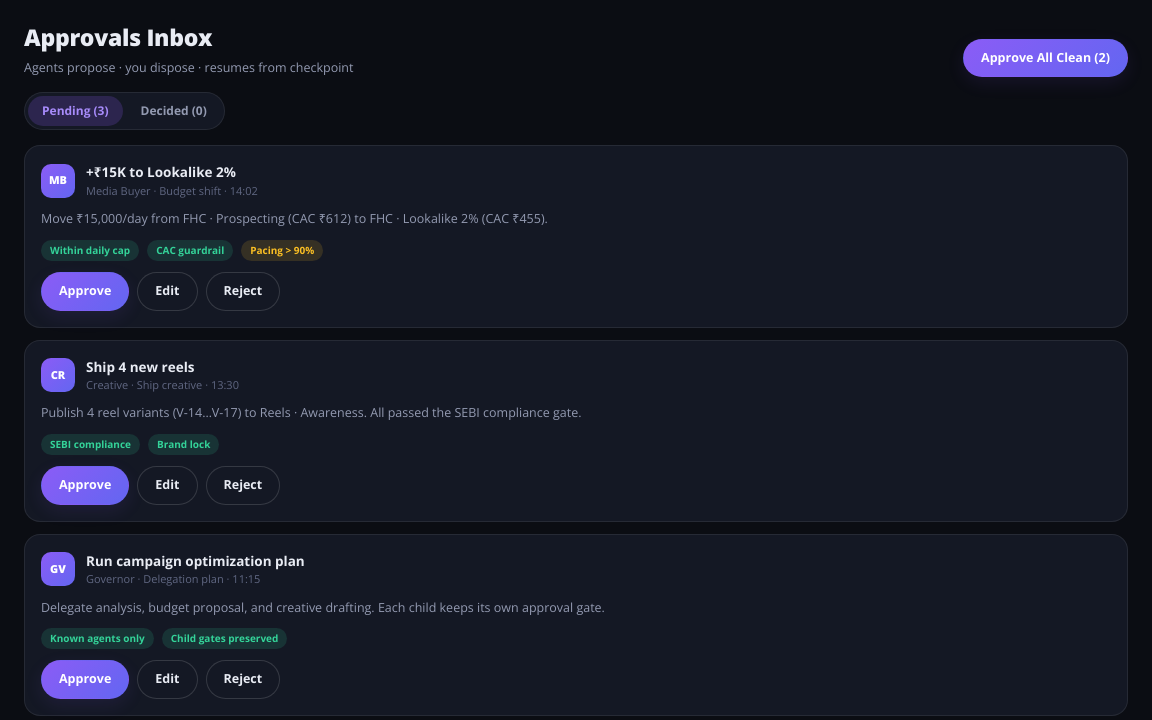
Test case: ApprovalsView › edits a proposal without deciding it
The image size is (1152, 720).
Click the button "Edit" below "Within daily cap" at (168, 291), box x1=137 y1=272 x2=198 y2=311
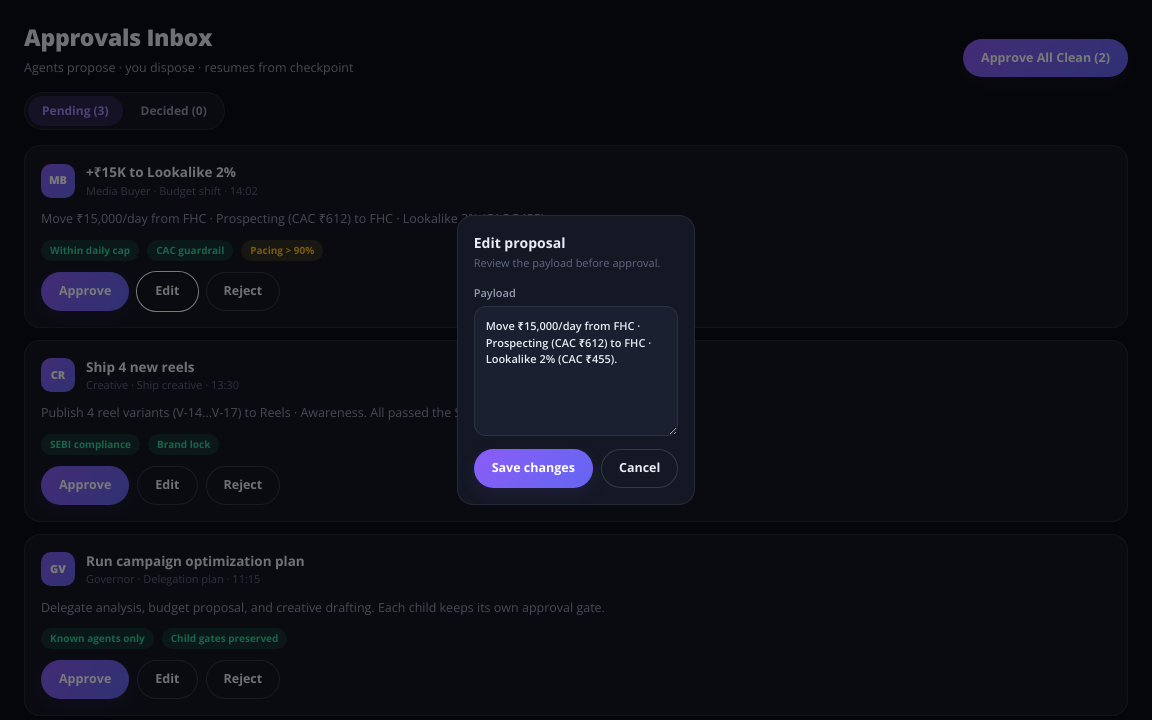
Replace the text in the text box labelled "Payload" with "Updated proposal" at (576, 371), box x1=474 y1=306 x2=678 y2=436
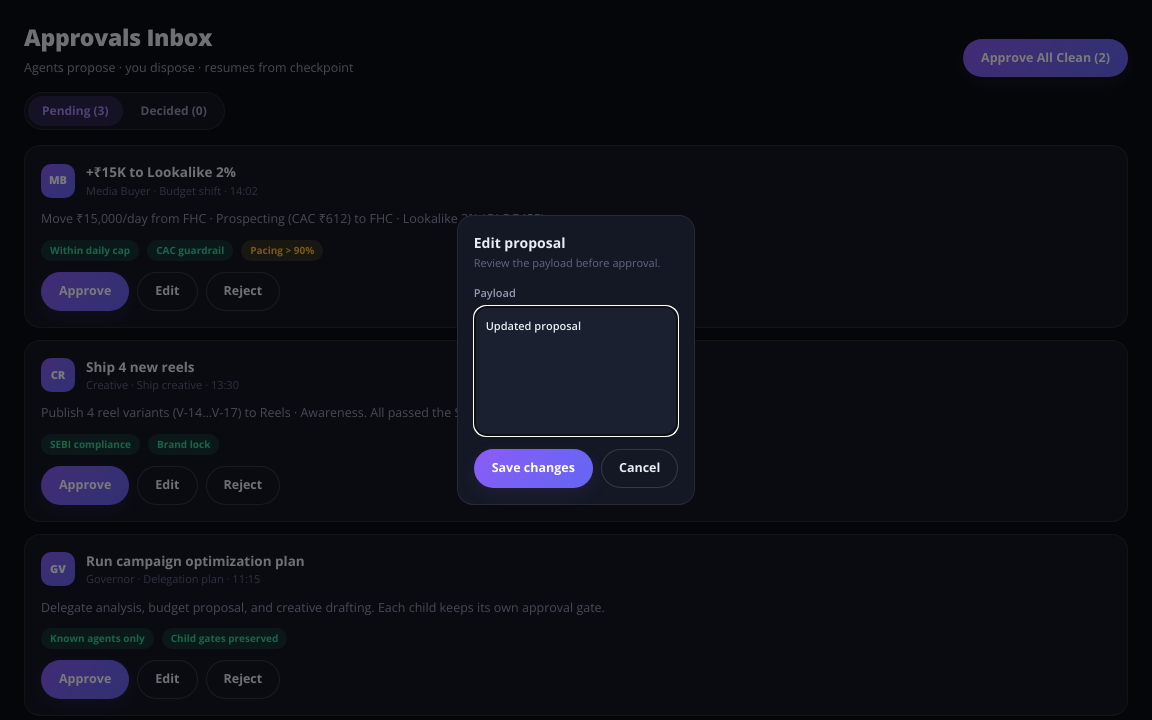
Click the button "Save changes" at (533, 468), box x1=474 y1=449 x2=593 y2=488
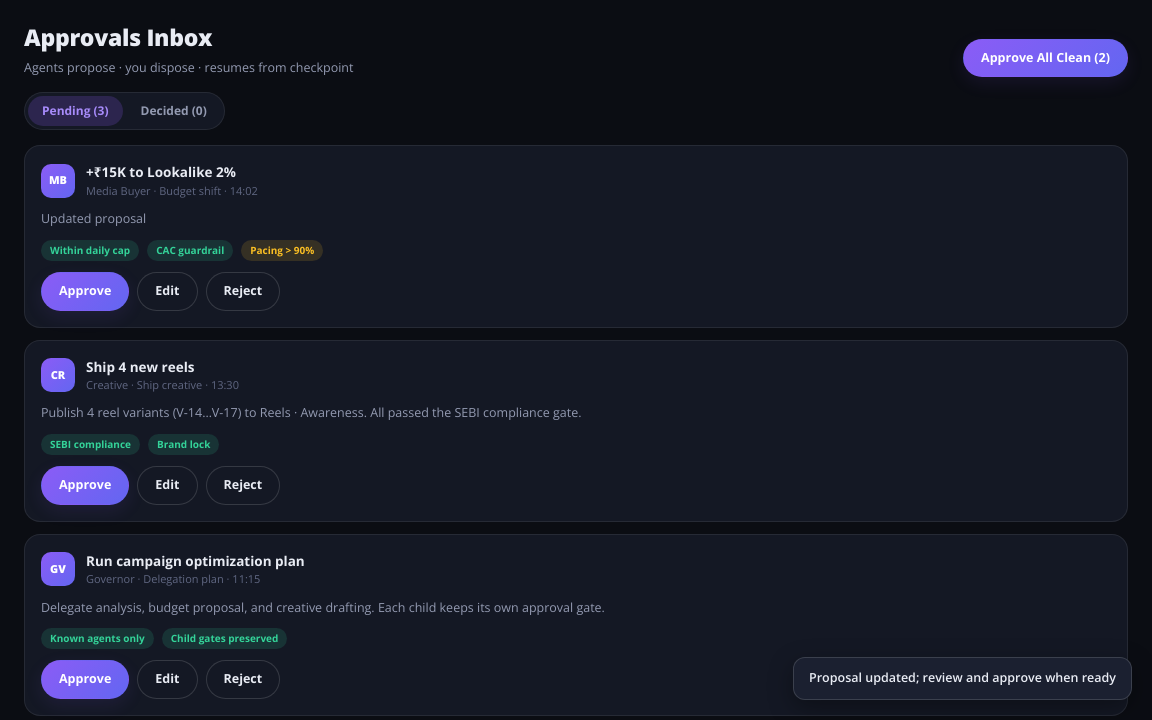
Check: the text "+₹15K to Lookalike 2%" is shown, box x1=86 y1=162 x2=258 y2=183
Check: the text "Updated proposal" is shown, box x1=41 y1=210 x2=146 y2=227
